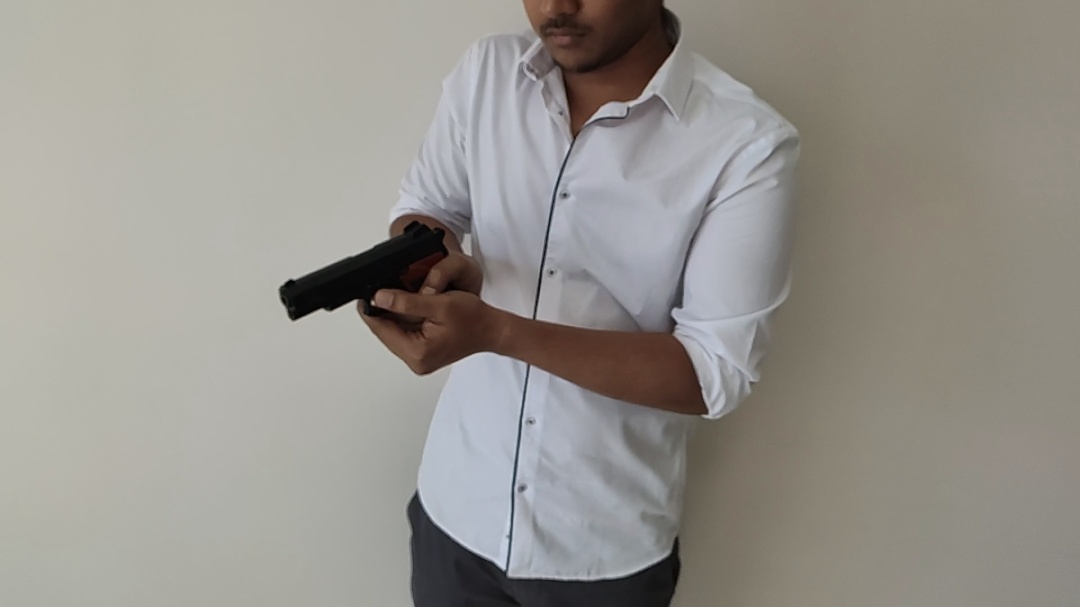gun: (277, 220, 449, 321)
